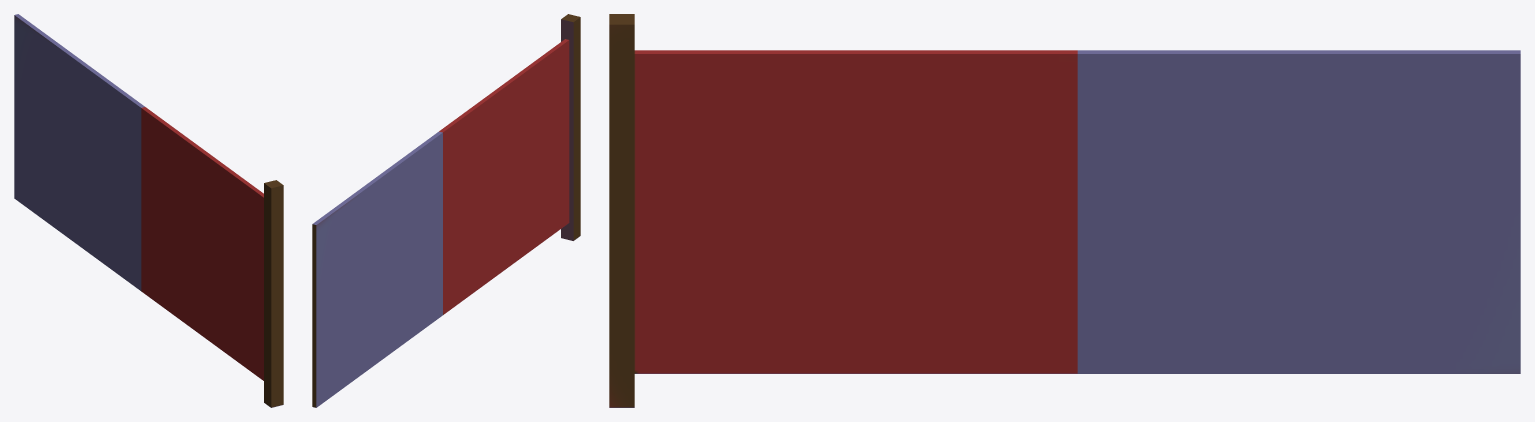
Rendered from CarnivalWall.fbx.
3 views of the same model, side by side, from view 1: azimuth 30°, elevation 25°; view 2: azimuth 150°, elevation 25°; view 3: azimuth 270°, elevation 25° (orthographic). The views are drawn at different scales.
Visible parts, largest first — view 1: Cube; view 2: Cube; view 3: Cube.
Part boxes in pixels (<box>): Cube: <box>14,14,283,407</box>; Cube: <box>312,14,580,407</box>; Cube: <box>609,14,1520,407</box>.
Bounding box in the file's own units: 18.27 × 307 × 662.
